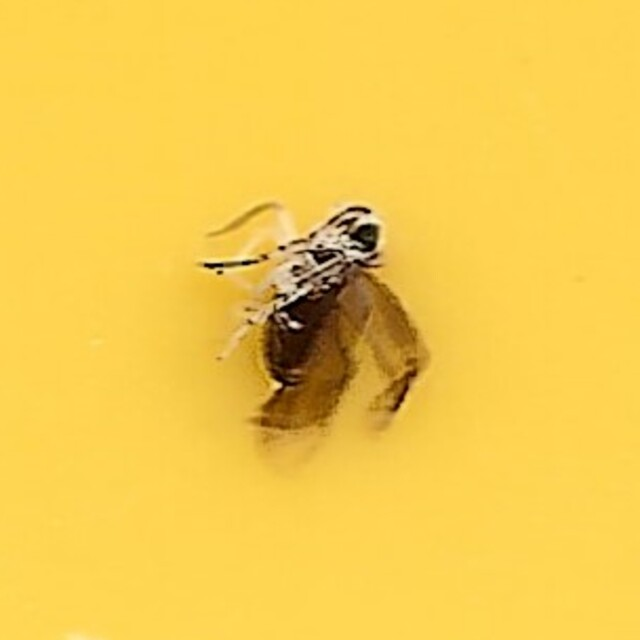Hemiptera: (211, 192, 429, 448)
